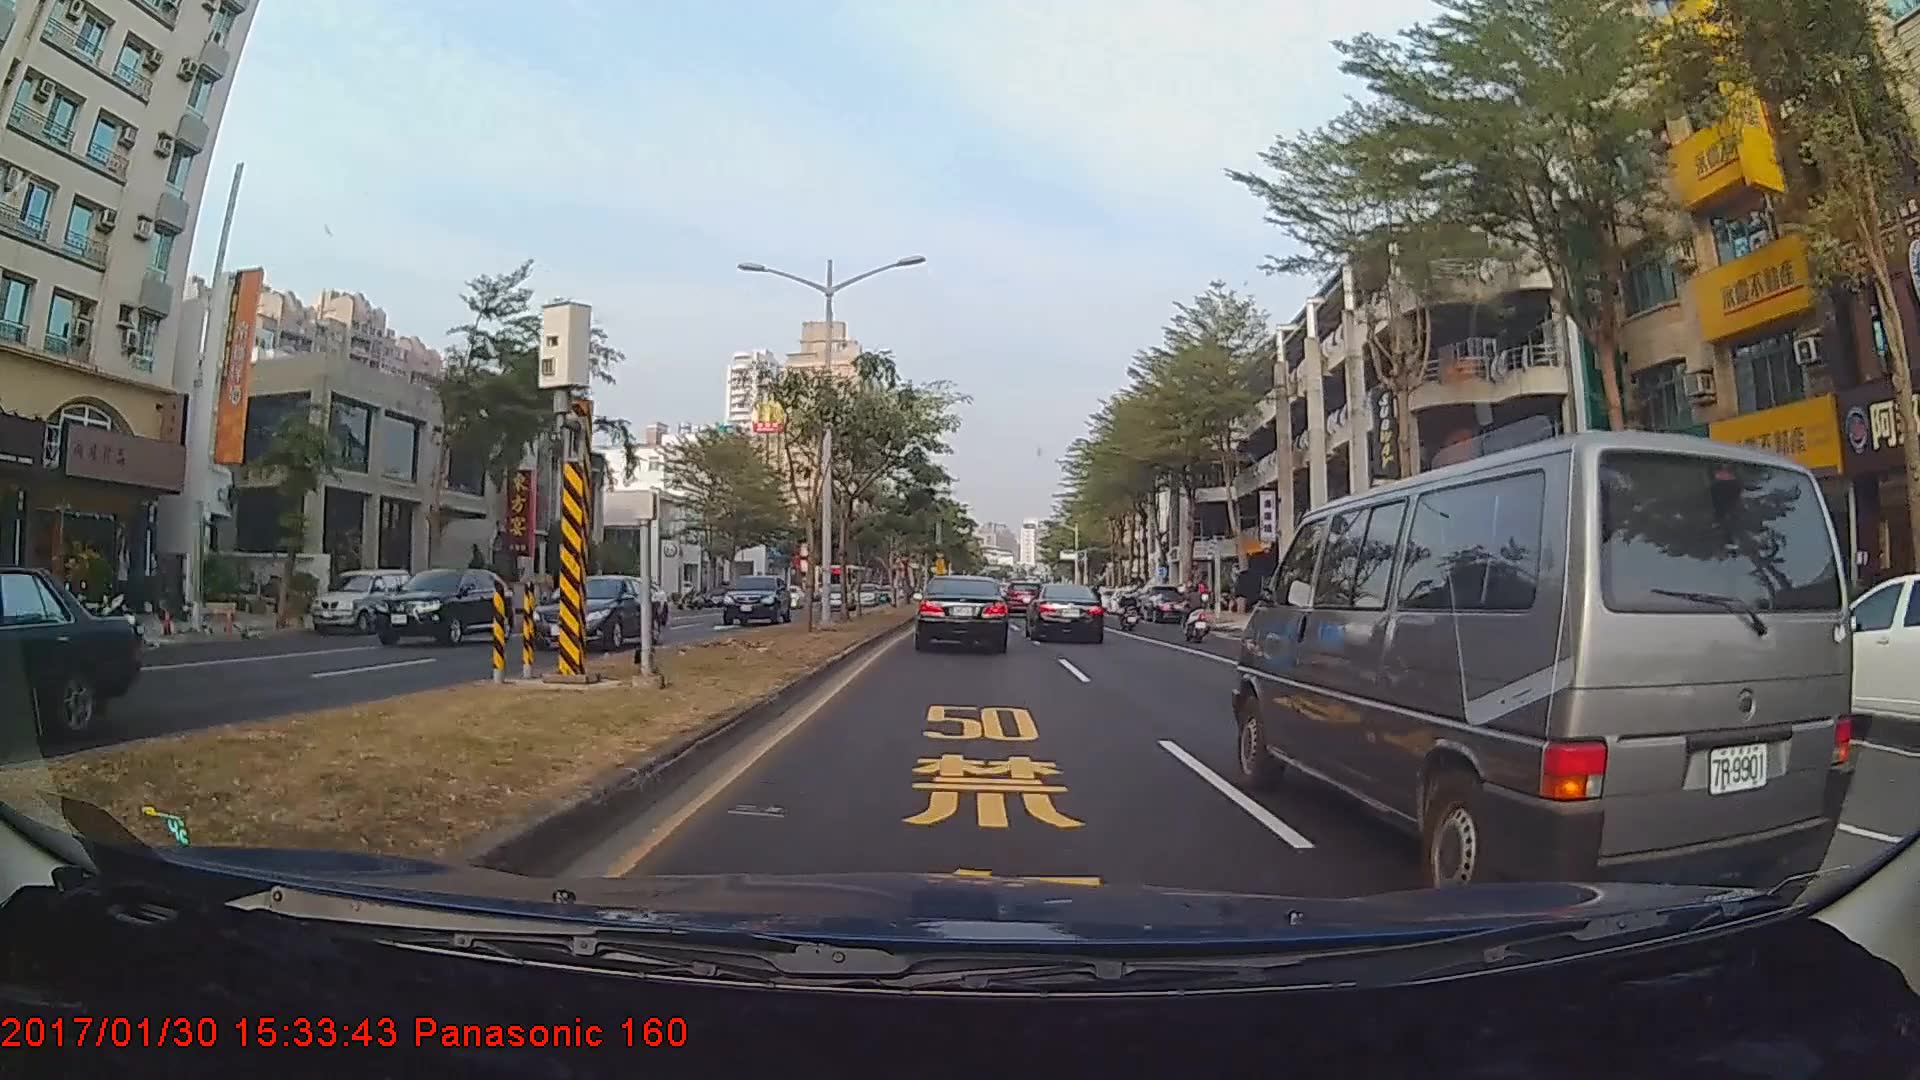rider: (1172, 580, 1217, 644)
vehicle: (1236, 414, 1853, 901), (0, 567, 137, 746), (365, 567, 513, 648), (525, 575, 661, 649), (311, 568, 419, 635), (916, 573, 1008, 653), (1026, 582, 1105, 645), (721, 573, 790, 624), (1134, 591, 1192, 623), (1004, 578, 1045, 618)
